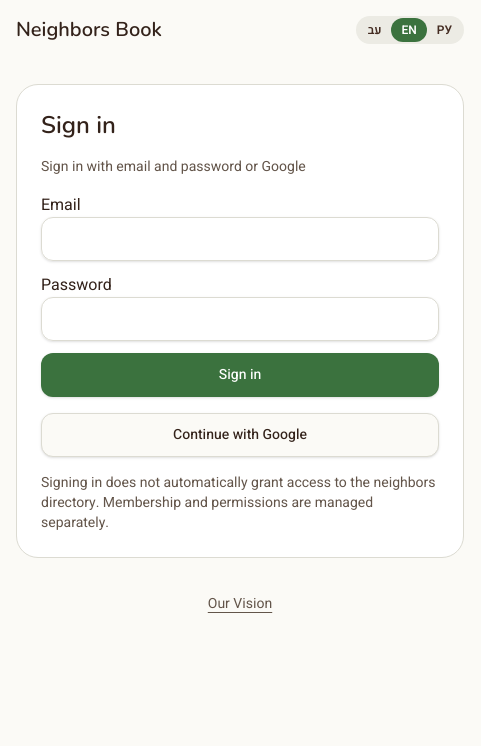
Test: maps provider errors to a localized message and allows retry
Click the button "Continue with Google". click: click(240, 435)
box: [41, 413, 439, 457]
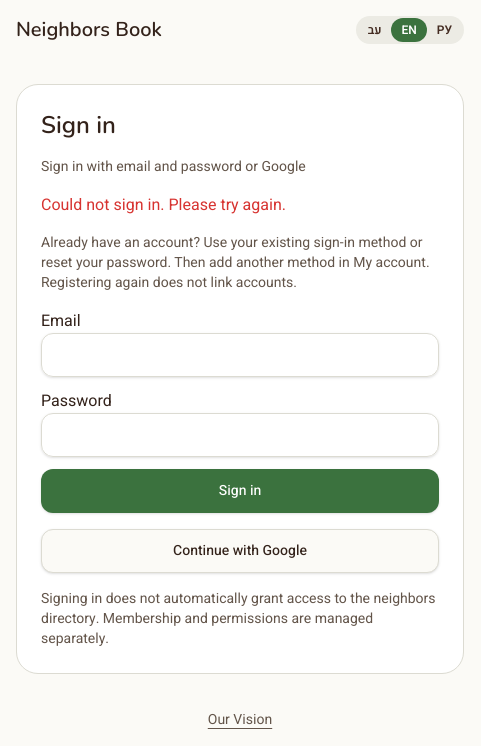
Expected: the button "Continue with Google" is enabled, [41, 529, 439, 573]
Expected: the message reads "Could not sign in. Please try again.", [41, 193, 286, 217]
